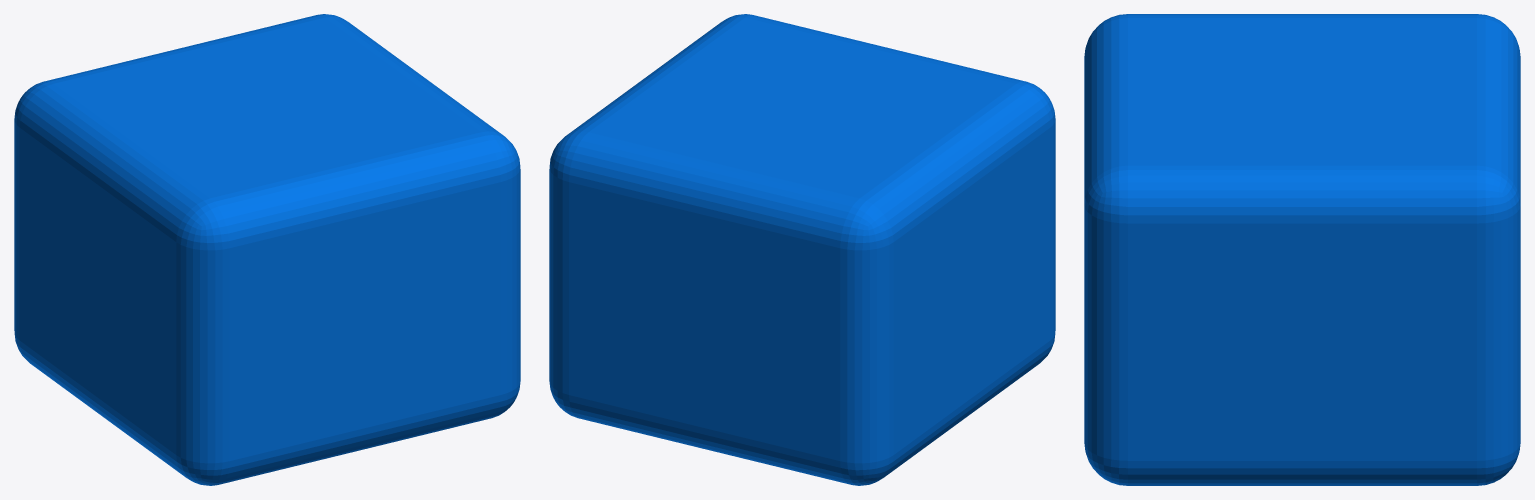
Rendered from tile_water.fbx.
3 views of the same model, side by side, from view 1: azimuth 30°, elevation 25°; view 2: azimuth 150°, elevation 25°; view 3: azimuth 270°, elevation 25° (orthographic). The views are drawn at different scales.
Parts seen in each view (by area): view 1: TileWater; view 2: TileWater; view 3: TileWater.
Part boxes in pixels (bbox=[...]): TileWater: bbox=[14, 14, 520, 485]; TileWater: bbox=[549, 14, 1055, 485]; TileWater: bbox=[1084, 14, 1520, 485].
Size of the model in its own units: 1 by 1 by 0.8.
